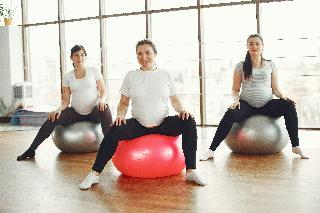person - v3 P: (80, 39, 207, 189), (199, 34, 308, 160), (17, 46, 112, 160)
